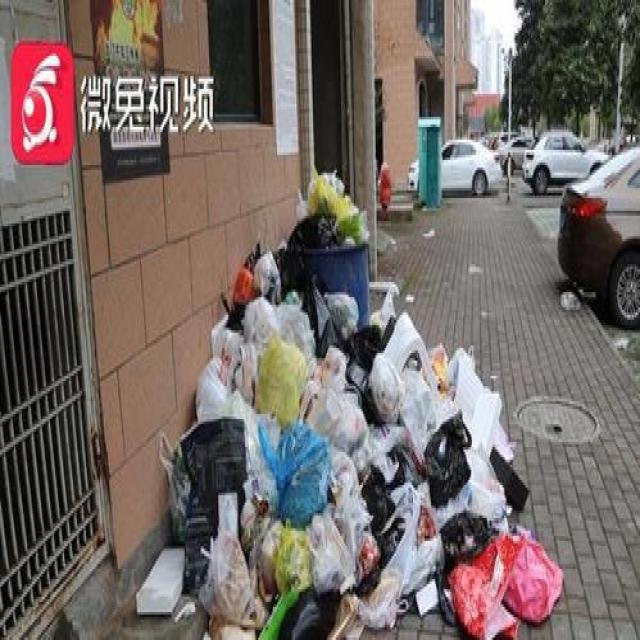garbage: (133, 165, 563, 638)
